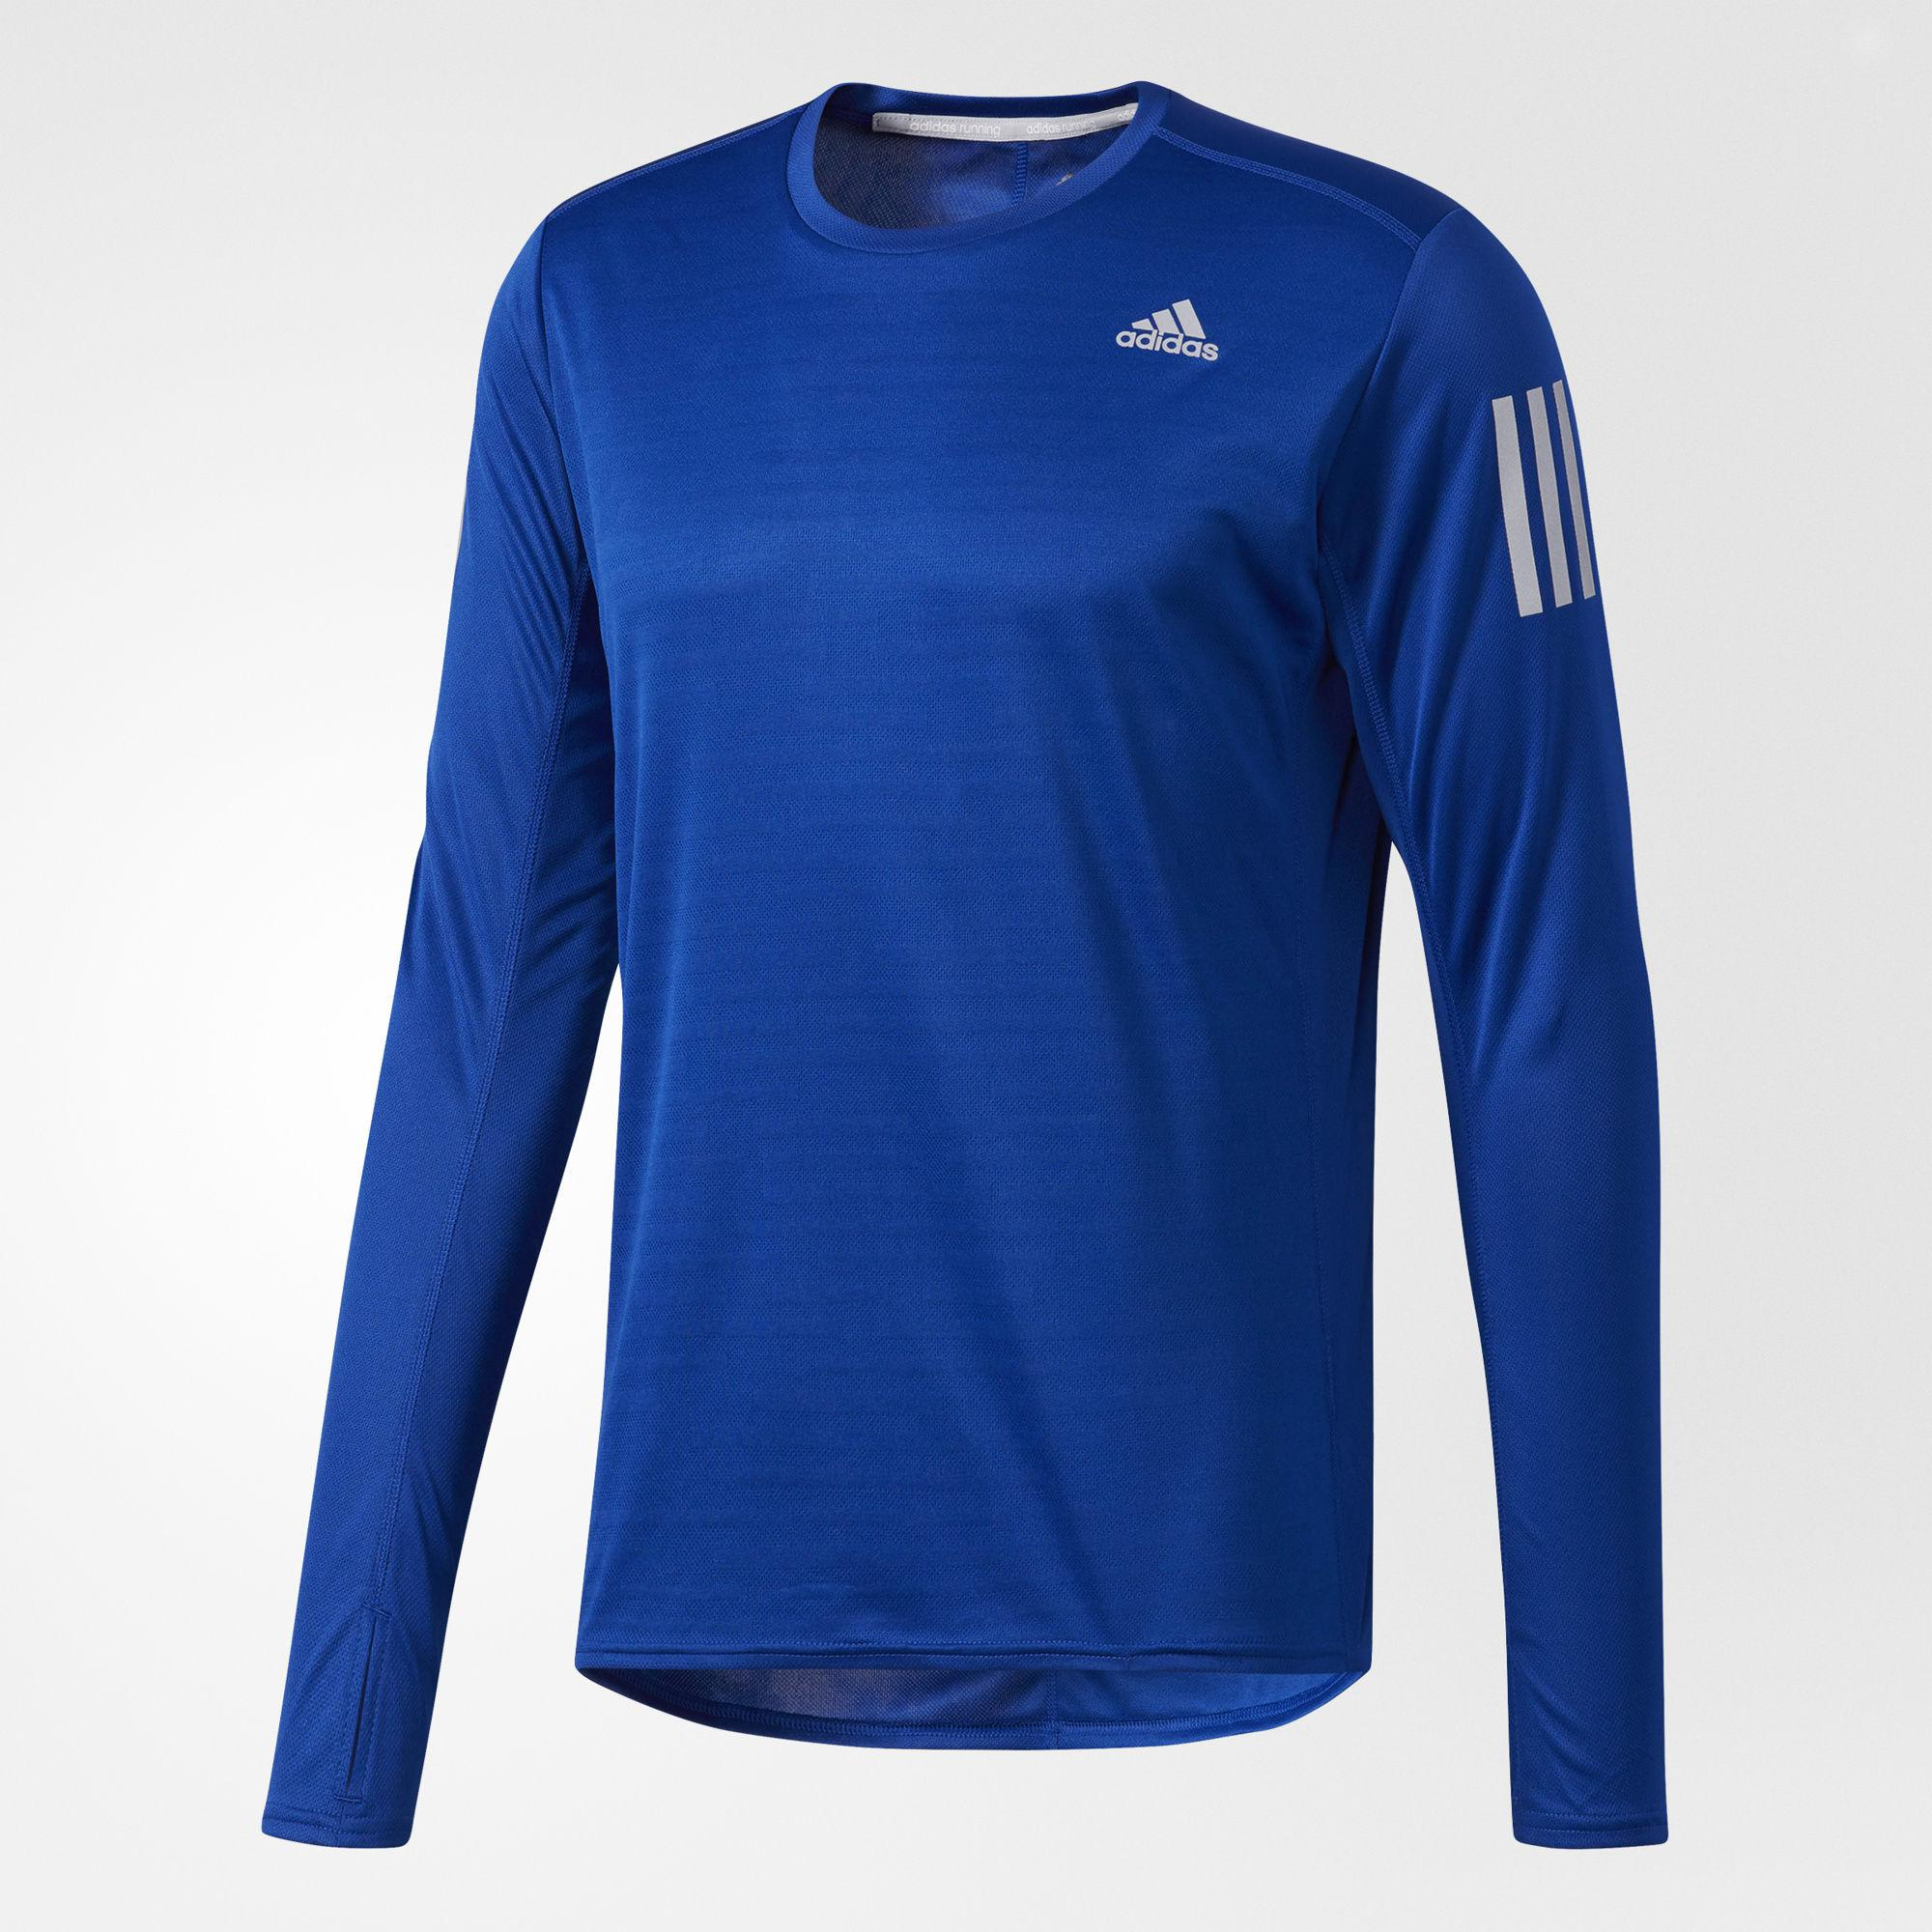teeshirt: (228, 76, 1767, 1932)
